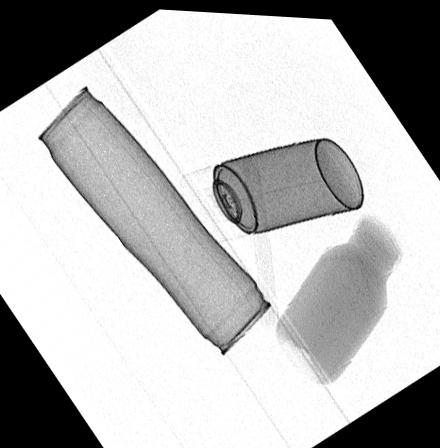Sprayer: (180, 132, 365, 241)
